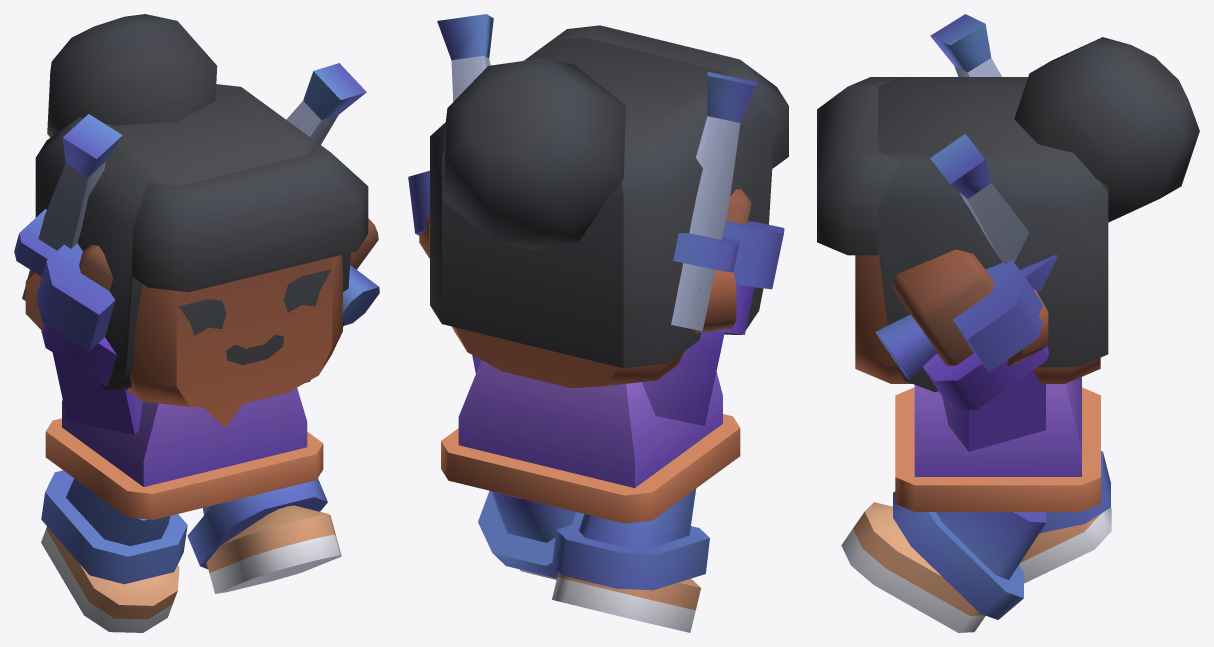
Rendered from walker-female-a-walk-a.glb.
The picture shows the model from 3 angles, left to right: view 1: azimuth 30°, elevation 25°; view 2: azimuth 150°, elevation 25°; view 3: azimuth 270°, elevation 25°; orthographic projection. The views are drawn at different scales.
Visible parts, largest first — view 1: character-female-a-walk-a; view 2: character-female-a-walk-a; view 3: character-female-a-walk-a.
Boxes of the visible parts, x1,y1,x2,y2 form: character-female-a-walk-a: (14, 14, 379, 632); character-female-a-walk-a: (408, 14, 788, 632); character-female-a-walk-a: (817, 14, 1199, 632).
Bounding box in the file's own units: 0.5097 × 0.8165 × 0.4995.
1 material, 1 textured.
